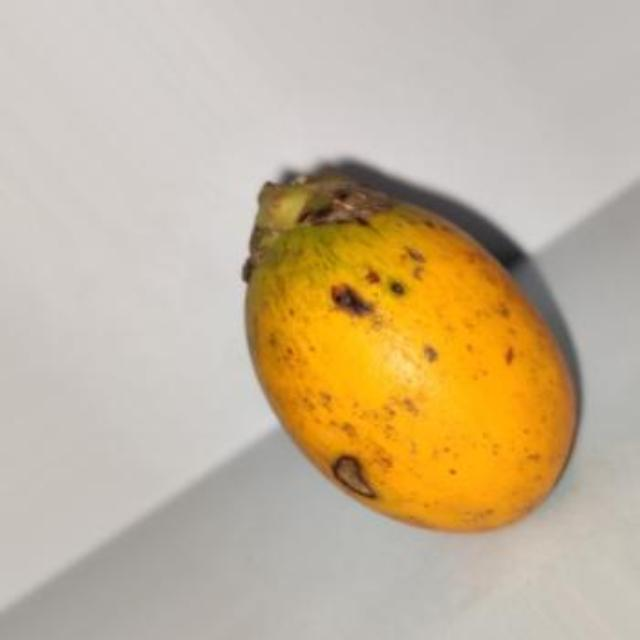good: (241, 172, 581, 536)
